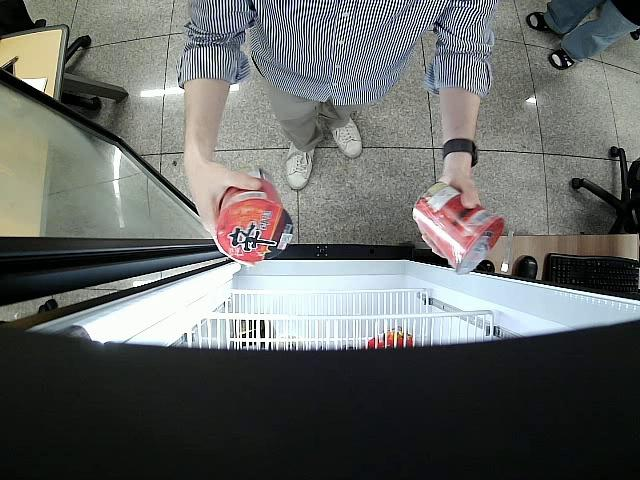00_hand: (185, 158, 263, 267), (421, 177, 482, 256)
02_shinRamen_S: (412, 184, 503, 275), (218, 164, 293, 262)
